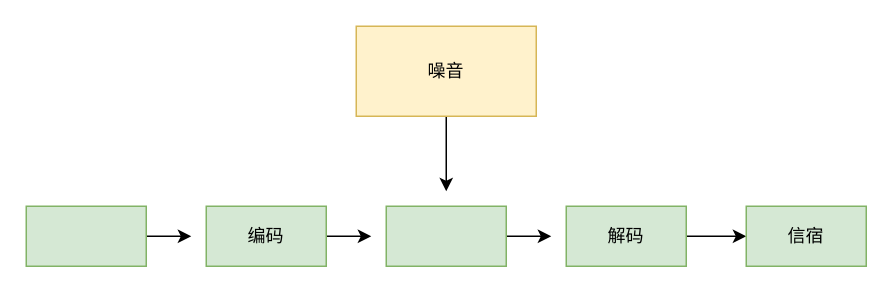
The diagram is 893 pixels wide and 293 high, and some of its shapes have lost their labels. The shapes that lost their labels are listed below. From the top down, each one's centre as x and y in pixels, then its label:
At pixel 85 235: "信源".
At pixel 445 235: "信道".
